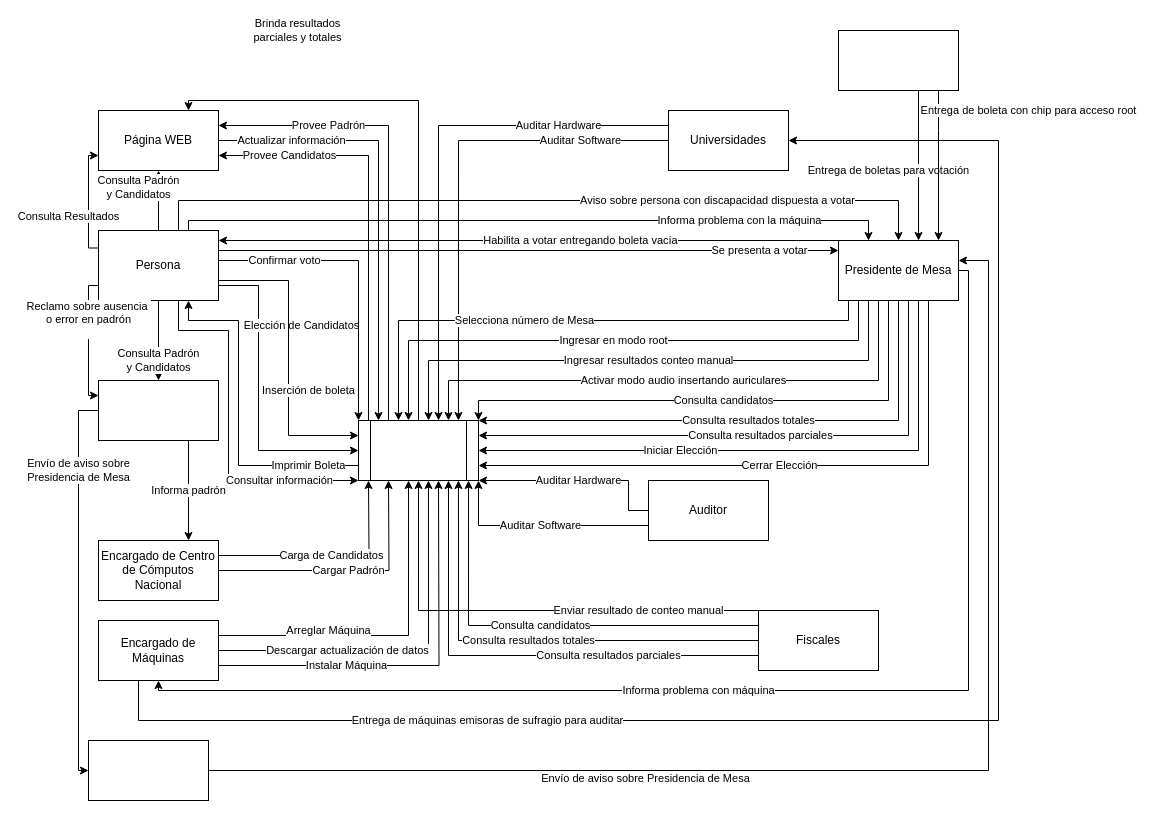
The diagram is 1153 pixels wide and 818 high, and some of its shapes have lost their labels. The centre of each missing label's shape, as x and y in pixels:
"Correo" goes at point (148, 770).
"Encargado de Boletas" goes at point (898, 60).
"Secretarias Electorales" goes at point (158, 410).
"SVE" goes at point (418, 450).
